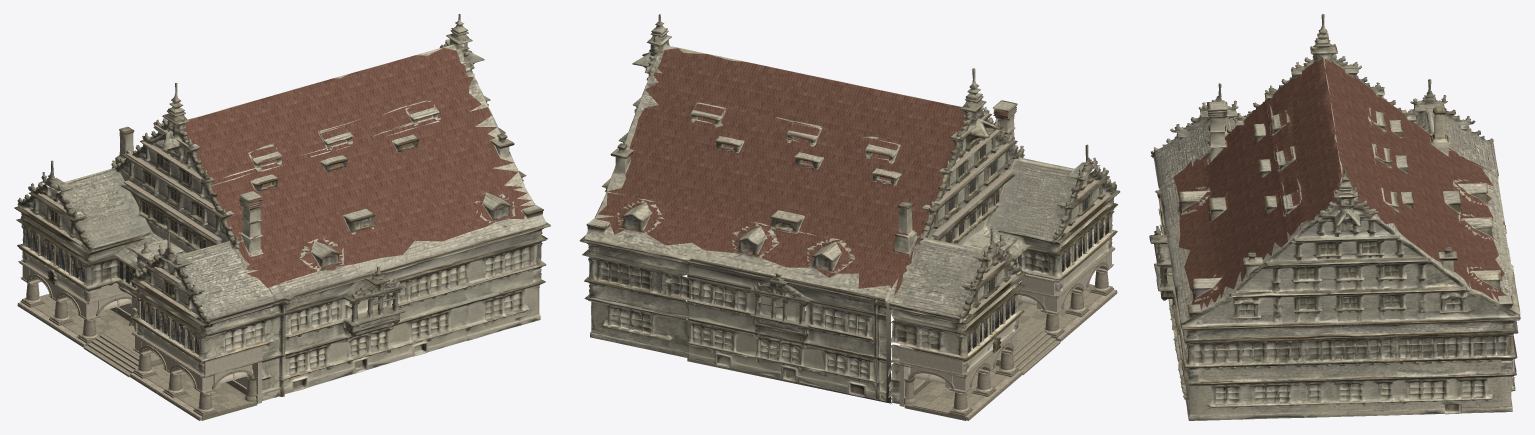
Rendered from rh_nah.glb.
3 views of the same model, side by side, from view 1: azimuth 30°, elevation 25°; view 2: azimuth 150°, elevation 25°; view 3: azimuth 270°, elevation 25° (orthographic). The views are drawn at different scales.
Parts seen in each view (by area): view 1: RH_Arkaden_Giebel, RH_Lauben_2, RH_Lauben_1, RH_Giebelfenster, RH_Steinstufen, RH_Fenster_der_Ausluchten, RH_Fenstergang; view 2: RH_Arkaden_Giebel, RH_Nordwand_Fassadenschluss, RH_Lauben_1, RH_Lauben_2, RH_Giebelfenster, RH_Steinstufen, RH_Fenster_der_Ausluchten, RH_Nordwand_Ruecklage, RH_Fenstergang; view 3: RH_Arkaden_Giebel.
Boxes of the visible parts, bbox=[...] form: RH_Arkaden_Giebel: bbox=[14, 14, 550, 400]; RH_Lauben_2: bbox=[130, 315, 262, 420]; RH_Lauben_1: bbox=[17, 248, 131, 347]; RH_Giebelfenster: bbox=[23, 125, 221, 318]; RH_Steinstufen: bbox=[83, 325, 162, 377]; RH_Fenster_der_Ausluchten: bbox=[26, 228, 199, 354]; RH_Fenstergang: bbox=[21, 225, 200, 357]; RH_Arkaden_Giebel: bbox=[579, 14, 1120, 404]; RH_Nordwand_Fassadenschluss: bbox=[688, 253, 886, 401]; RH_Lauben_1: bbox=[898, 315, 1022, 420]; RH_Lauben_2: bbox=[1018, 234, 1117, 341]; RH_Giebelfenster: bbox=[932, 113, 1111, 315]; RH_Steinstufen: bbox=[996, 325, 1060, 374]; RH_Fenster_der_Ausluchten: bbox=[968, 214, 1108, 352]; RH_Nordwand_Ruecklage: bbox=[687, 262, 890, 403]; RH_Fenstergang: bbox=[965, 211, 1112, 356]; RH_Arkaden_Giebel: bbox=[1149, 14, 1520, 420].
Bounding box in the file's own units: 32.17 × 20.71 × 26.27.
Materials: 19 (7 with a texture image).
